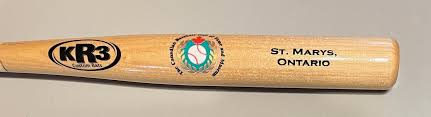baseball bat: (1, 31, 400, 93)
